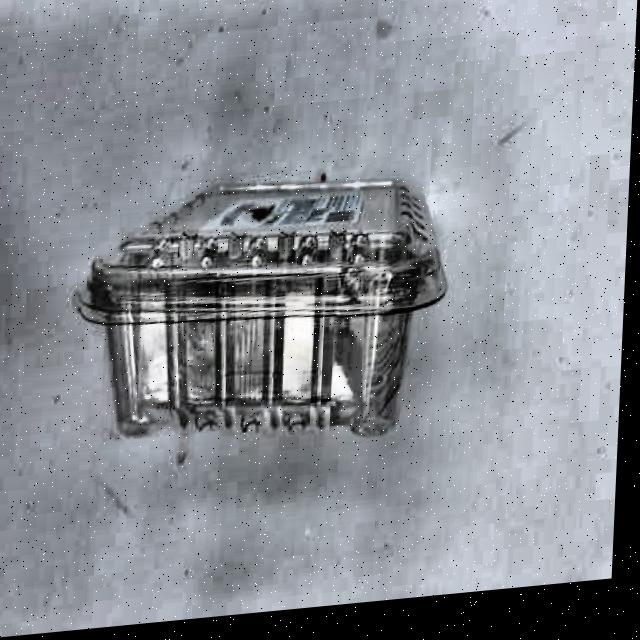plastic: (63, 157, 452, 469)
